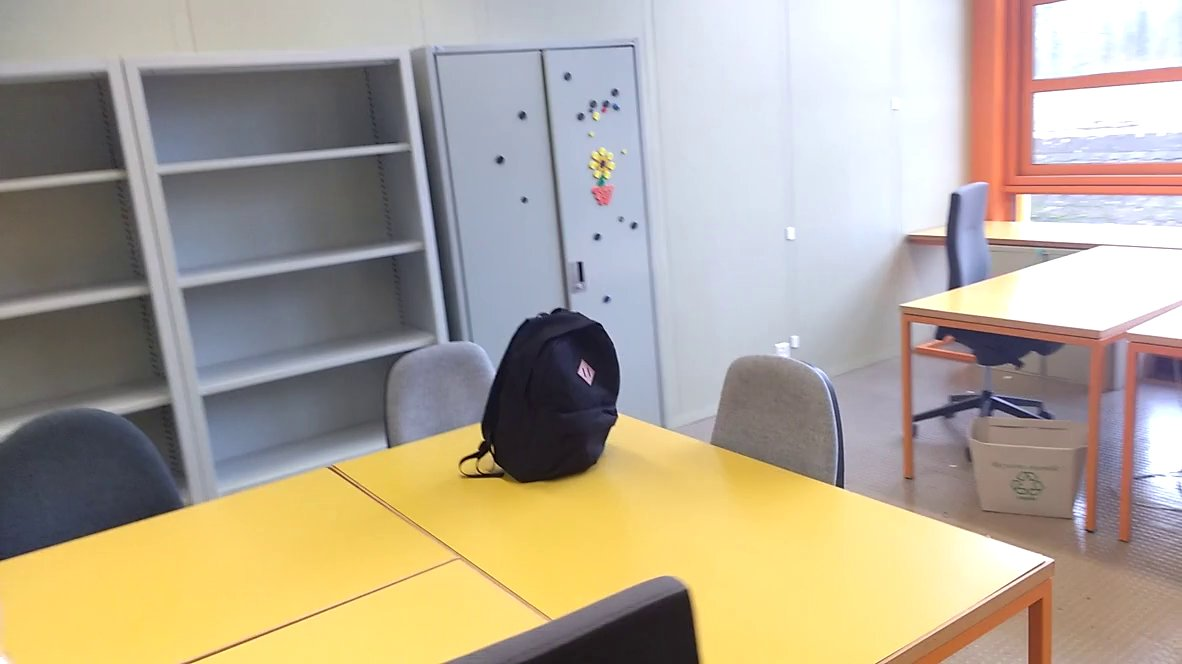bag: (456, 305, 624, 486)
box: (963, 409, 1099, 535)
chair: (909, 171, 1066, 458), (1, 402, 201, 568), (695, 350, 870, 511), (382, 333, 512, 453)
